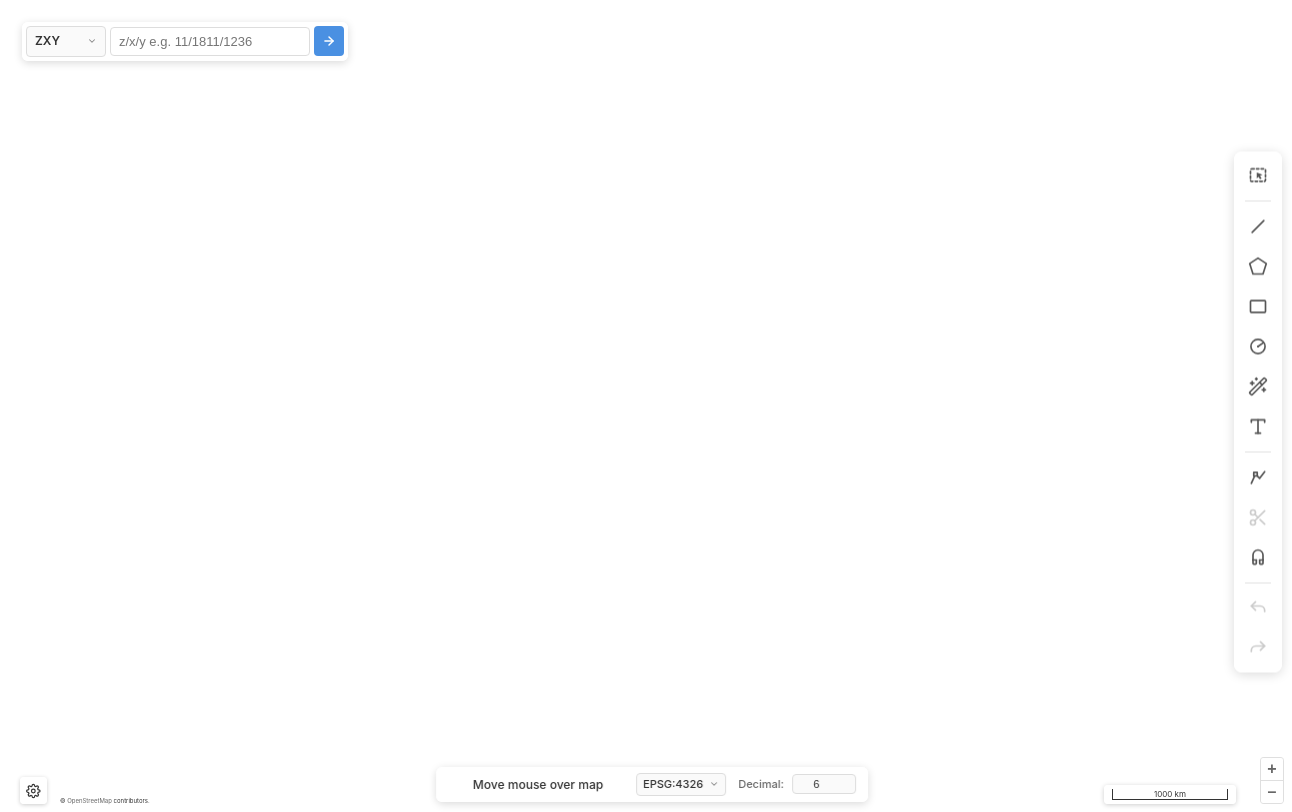
Test: line drawing still works normally while magnetic mode is armed
The image size is (1292, 812).
Right-click the button titled "Draw Line" at (1258,226), box [1240,208,1276,244]
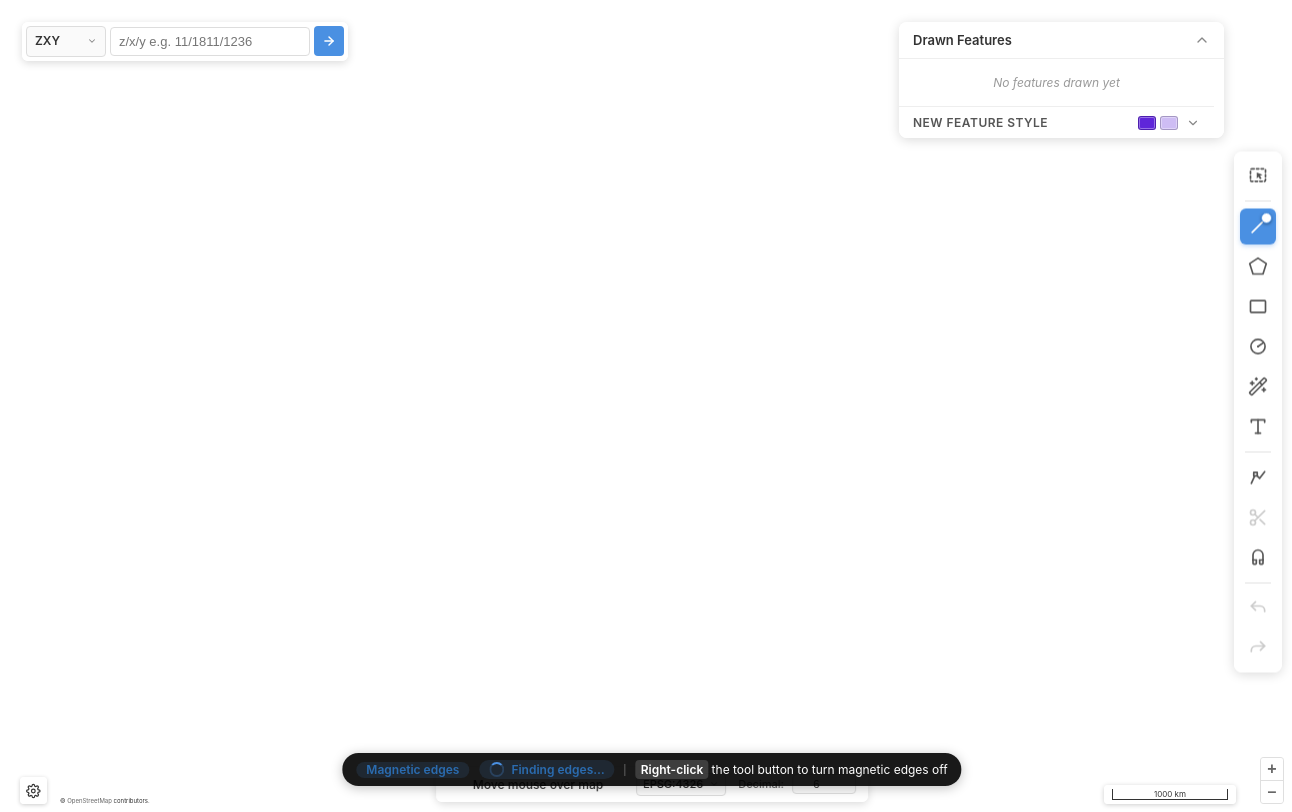
Result: the text "Magnetic edges" is shown at [356,762,469,778]
Press the mouse on the element with class "ol-viewport" at (652,412), box [12,12,1291,811]
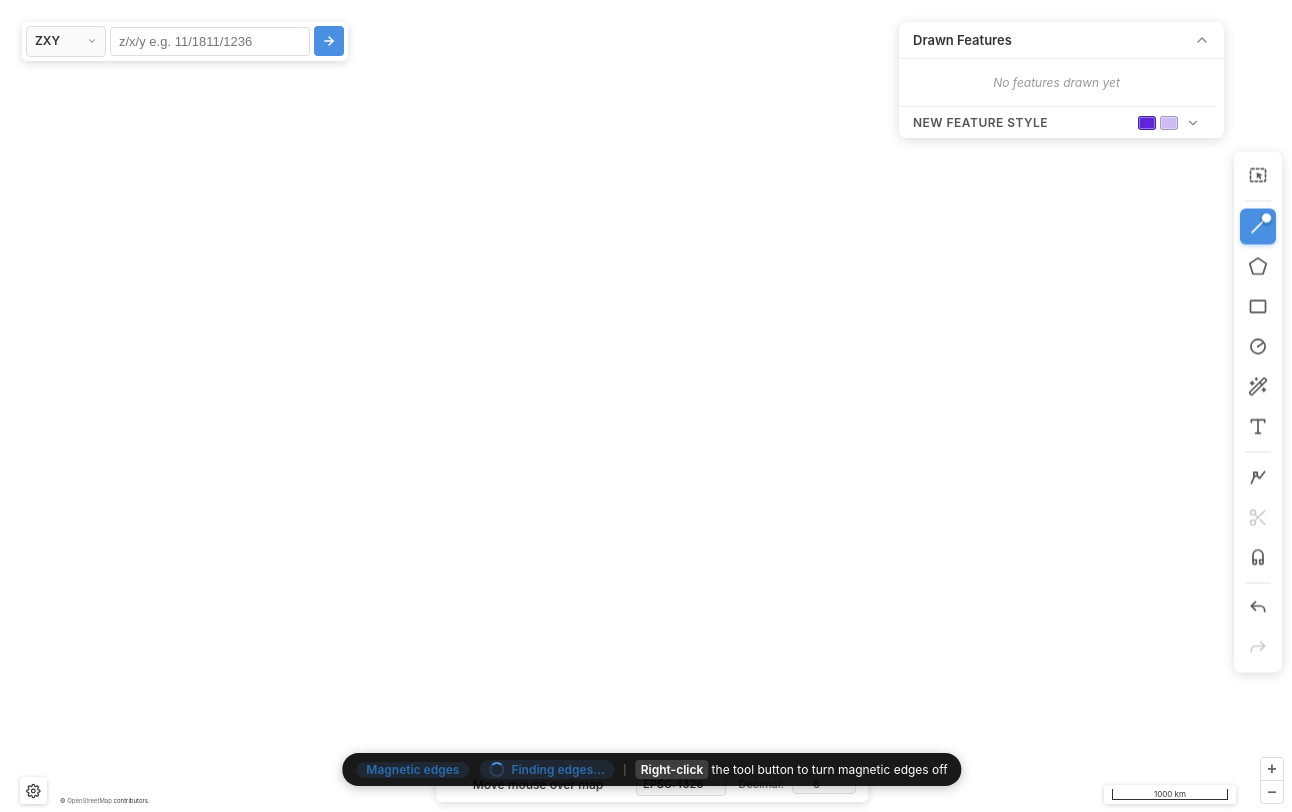
Press the mouse on the element with class "ol-viewport" at (652,412), box [12,12,1291,811]
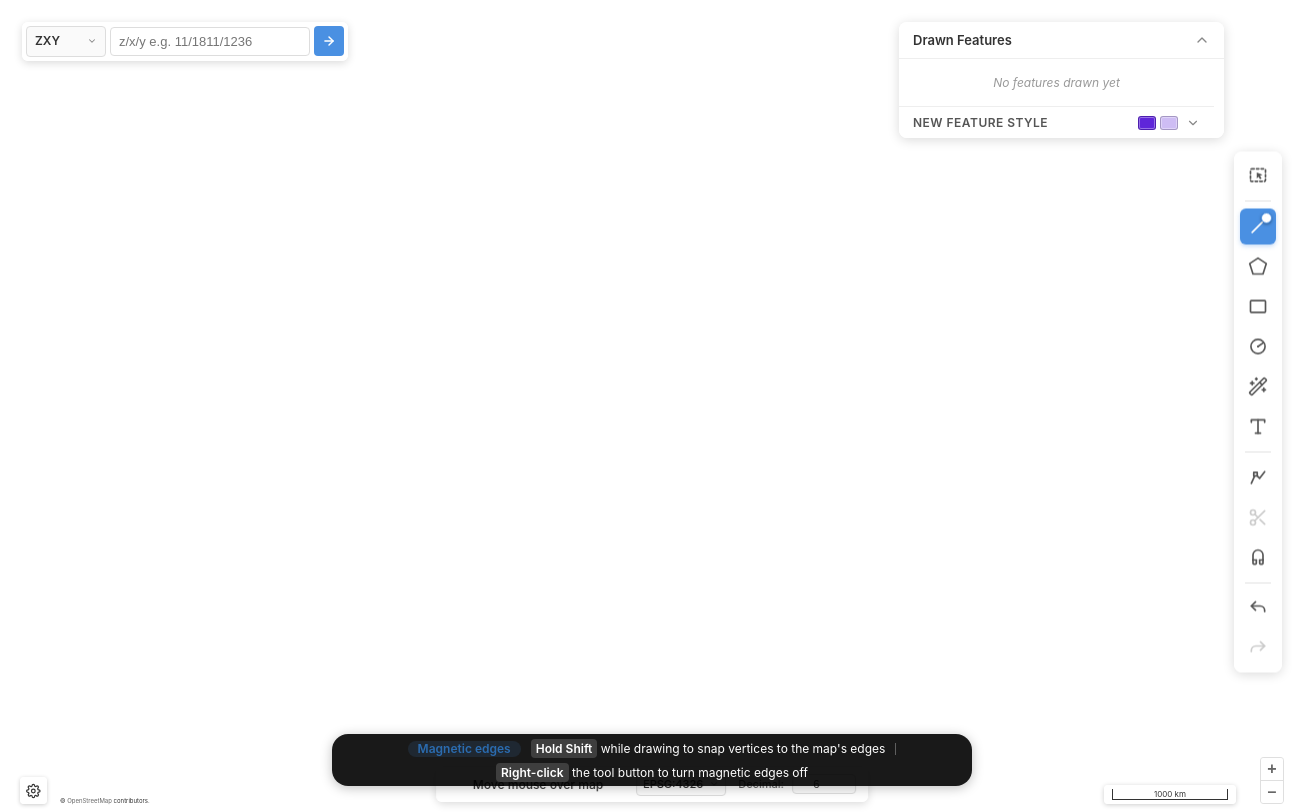
Press the mouse on the element with class "ol-viewport" at (652,412), box [12,12,1291,811]
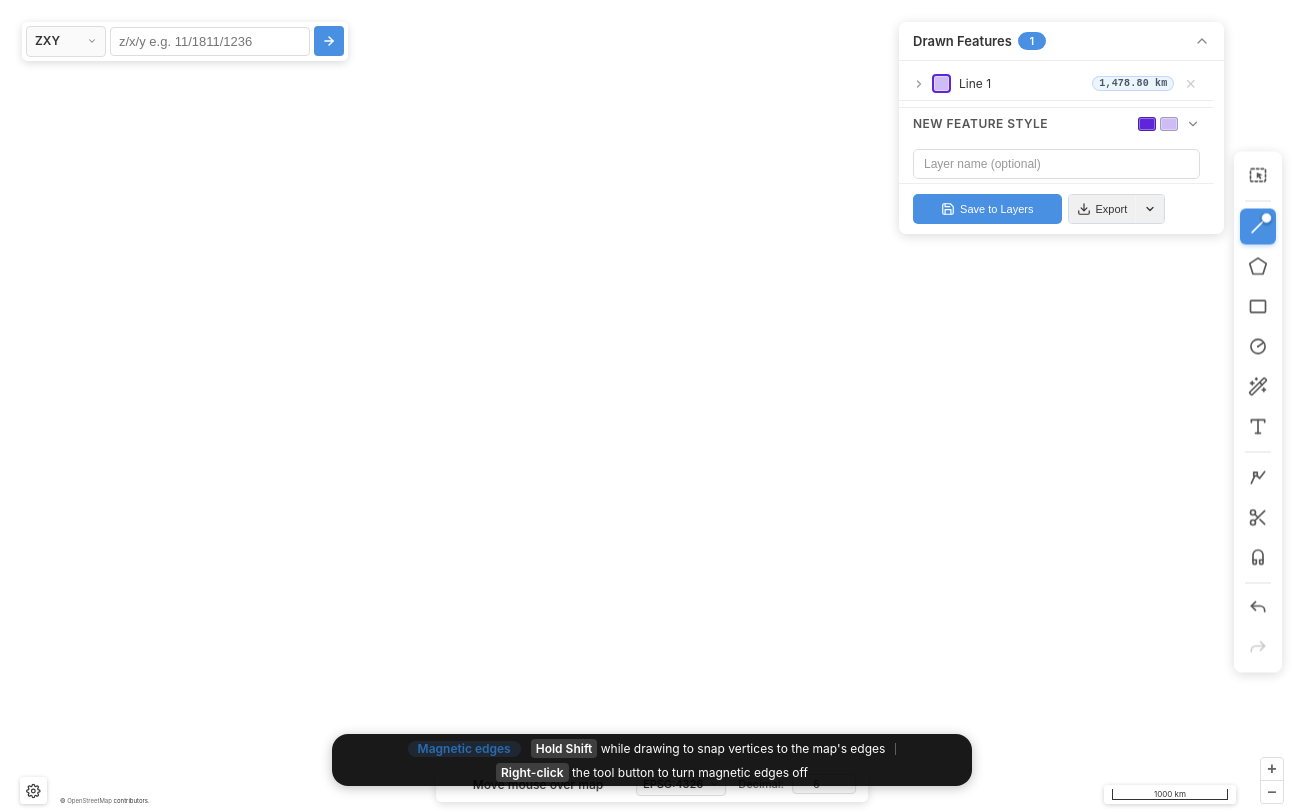
Result: the text "Line 1" is shown at [959,76,991,91]
